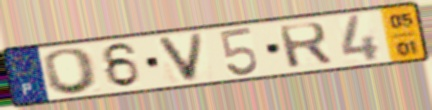4: (337, 13, 384, 64)
5: (217, 26, 260, 77)
6: (100, 42, 142, 90)
O: (41, 46, 103, 97)
R: (276, 20, 336, 70)
V: (154, 31, 208, 85)
